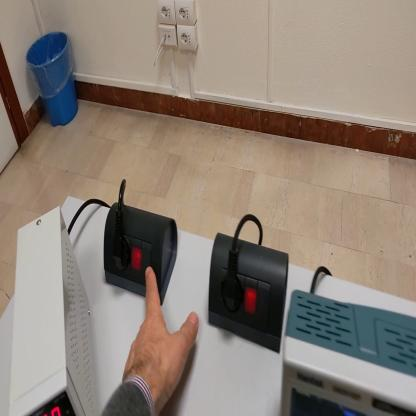hand: (120, 263, 199, 415)
oscilloscope: (278, 287, 415, 415)
power supply: (12, 203, 96, 415)
socket: (209, 231, 292, 357), (103, 203, 178, 306)
